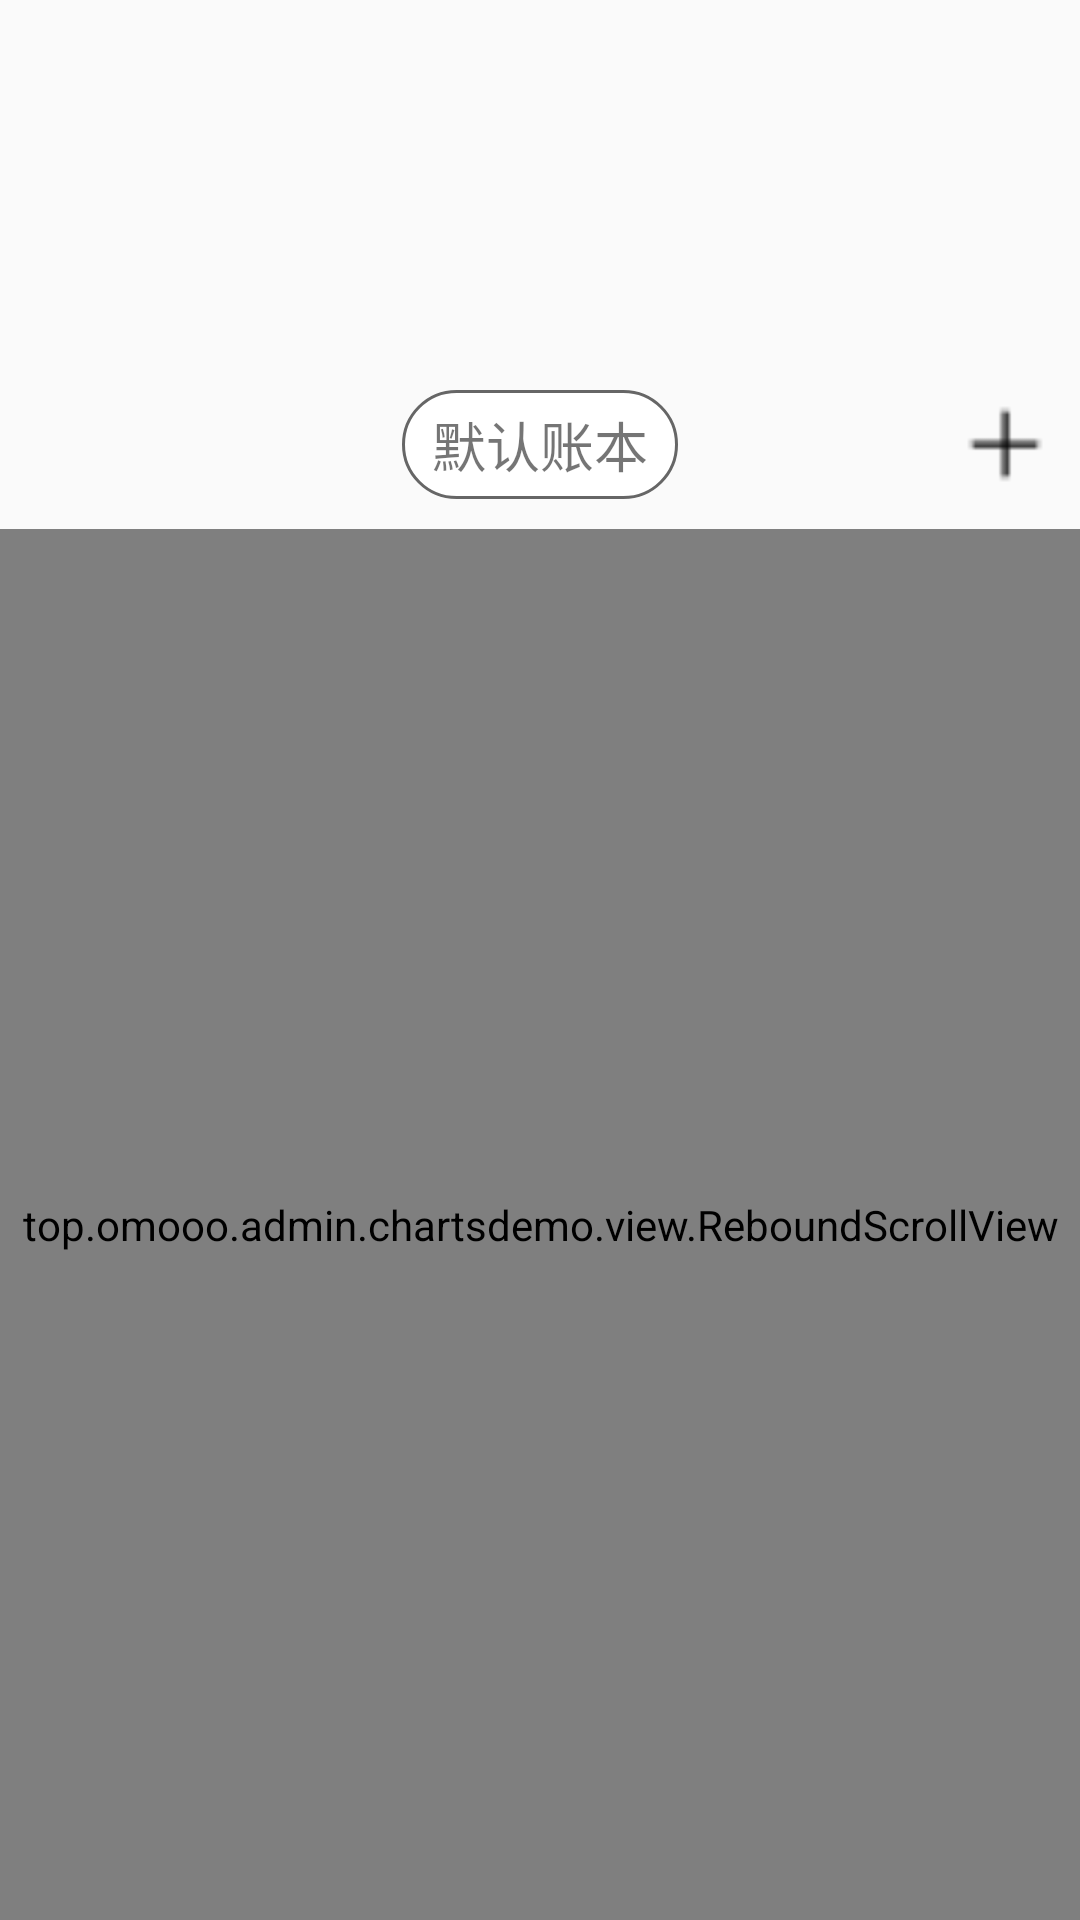

Icons on this 1080×1920 Android screen, each with its box as [x1,y1,x2,y2]:
add: [969,408,1041,480]
